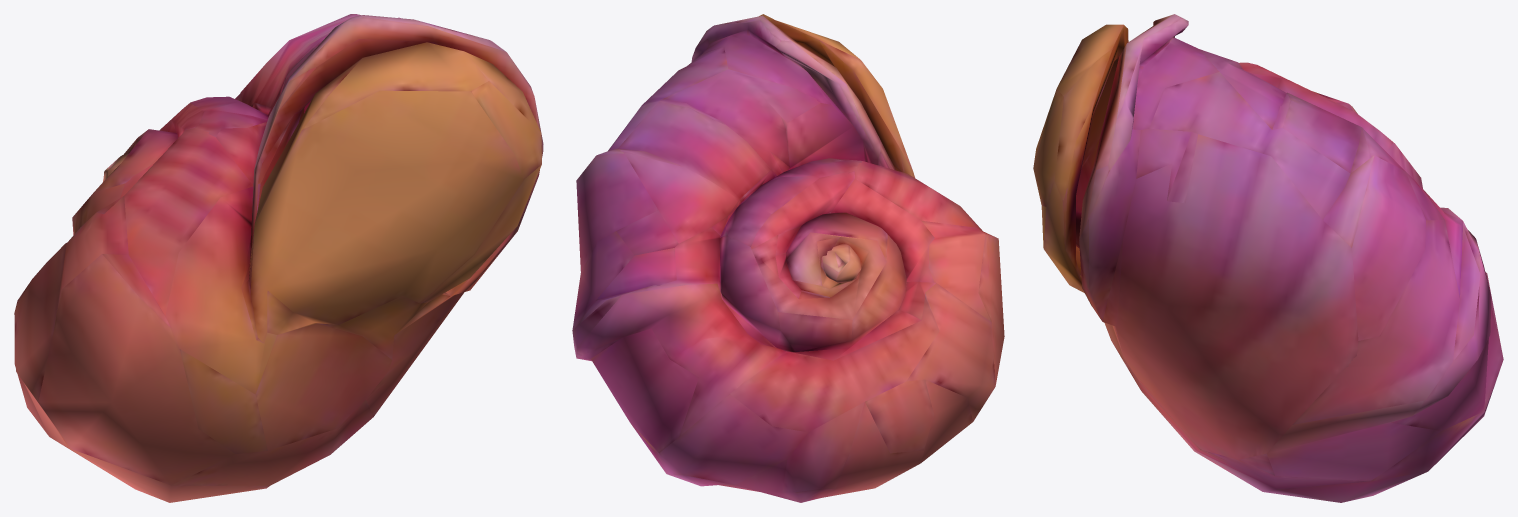
The picture shows the model from 3 angles, left to right: view 1: azimuth 30°, elevation 25°; view 2: azimuth 150°, elevation 25°; view 3: azimuth 270°, elevation 25°; orthographic projection. The views are drawn at different scales.
Visible parts, largest first — view 1: material; view 2: material; view 3: material.
Boxes of the visible parts, <box> form: material: <box>14,14,543,502</box>; material: <box>572,14,1004,502</box>; material: <box>1033,14,1503,502</box>.
Size of the model in its own units: 0.9933 by 1 by 0.8761.
1 material, 1 textured.
